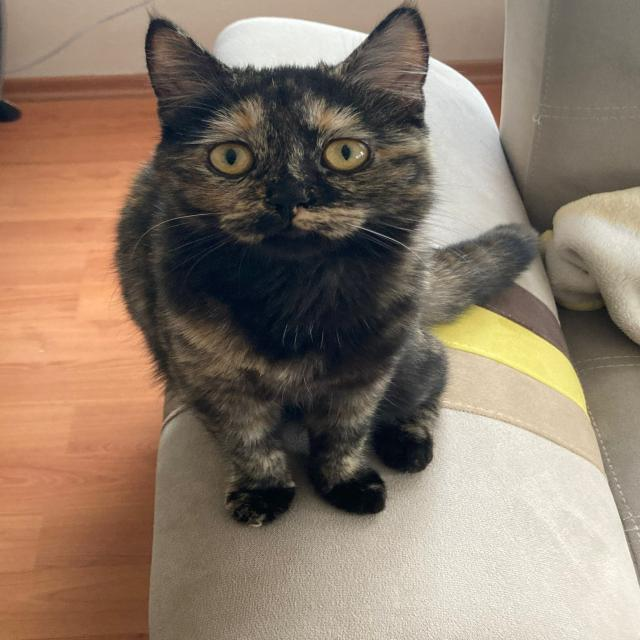authorized: (110, 1, 540, 527)
